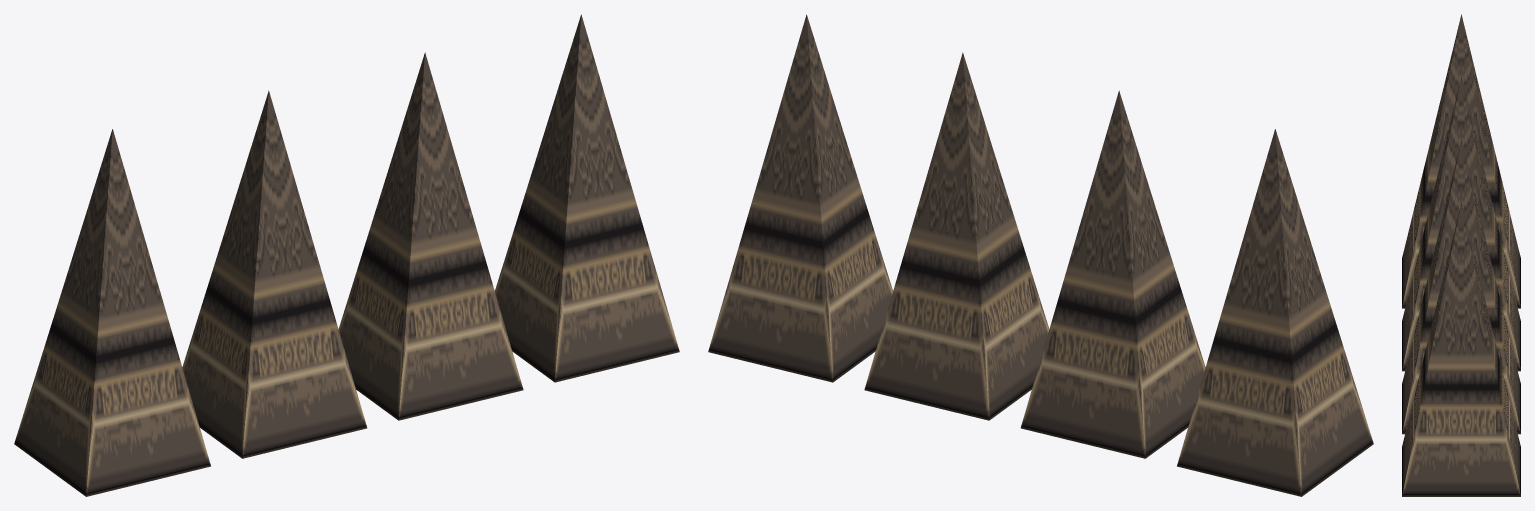
File: Stachel-Line.fbx
3 renders of one model, left to right at view 1: azimuth 30°, elevation 25°; view 2: azimuth 150°, elevation 25°; view 3: azimuth 270°, elevation 25°, orthographic. The views are drawn at different scales.
Parts seen in each view (by area): view 1: Stachel-Line; view 2: Stachel-Line; view 3: Stachel-Line.
Boxes of the visible parts, bbox=[...] form: Stachel-Line: bbox=[14, 14, 679, 496]; Stachel-Line: bbox=[708, 14, 1373, 496]; Stachel-Line: bbox=[1402, 14, 1520, 496].
Size of the model in its own units: 1.9 by 1 by 0.4.
